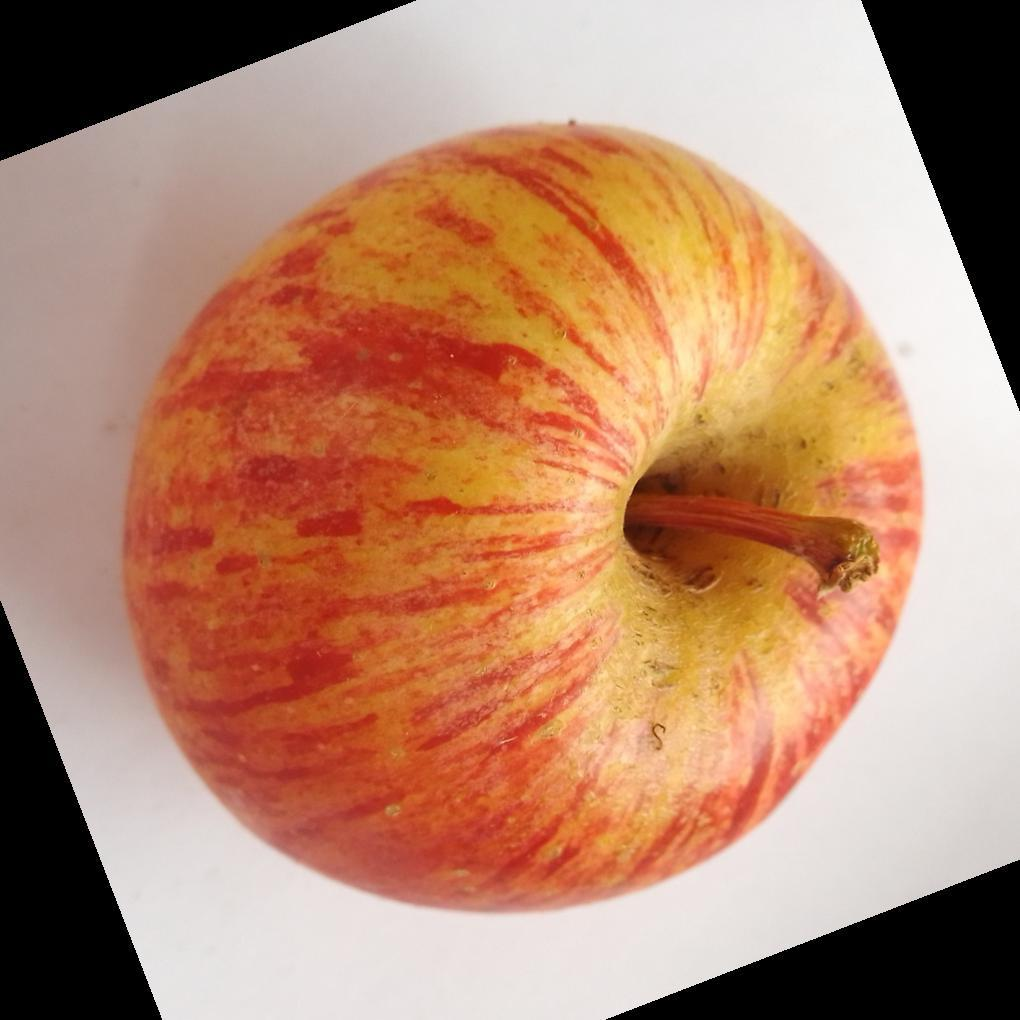FreshGuava: (117, 121, 926, 919)
